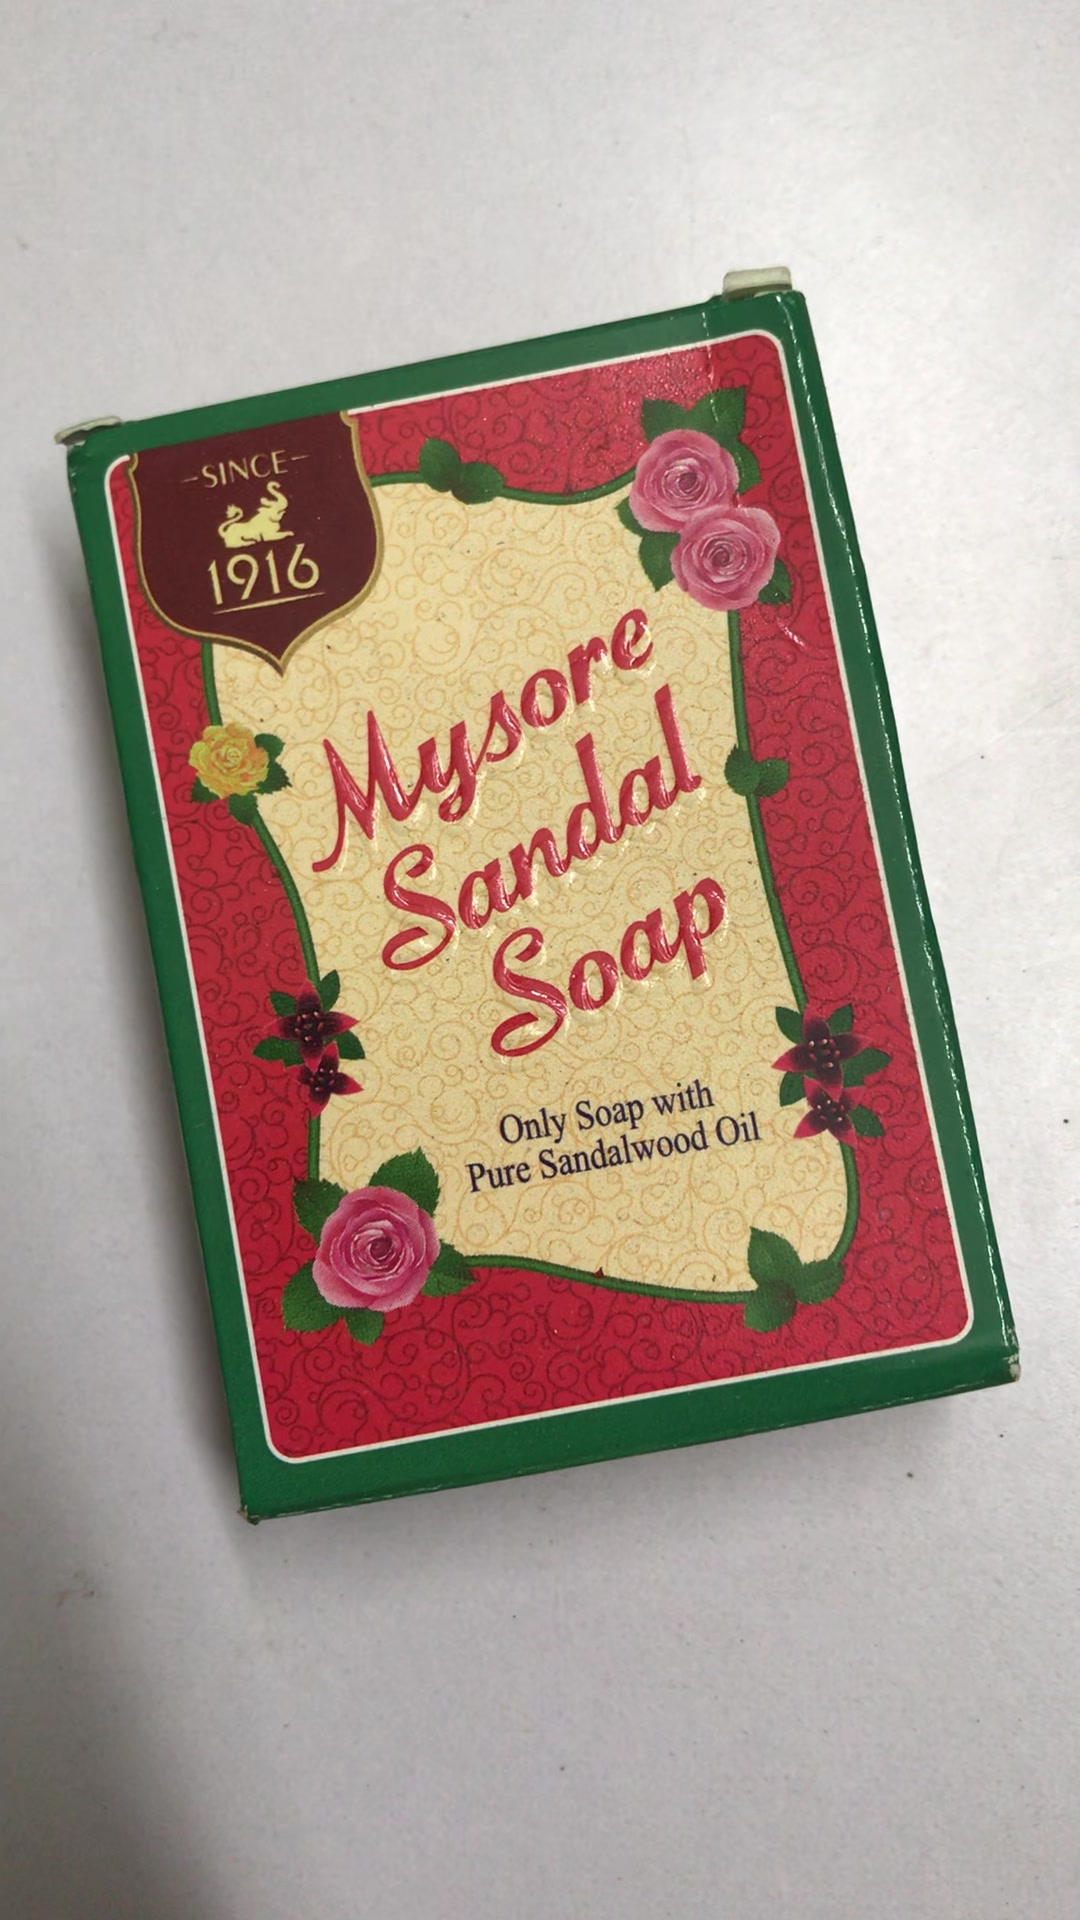mysore sandal soap: (63, 281, 1007, 1523)
